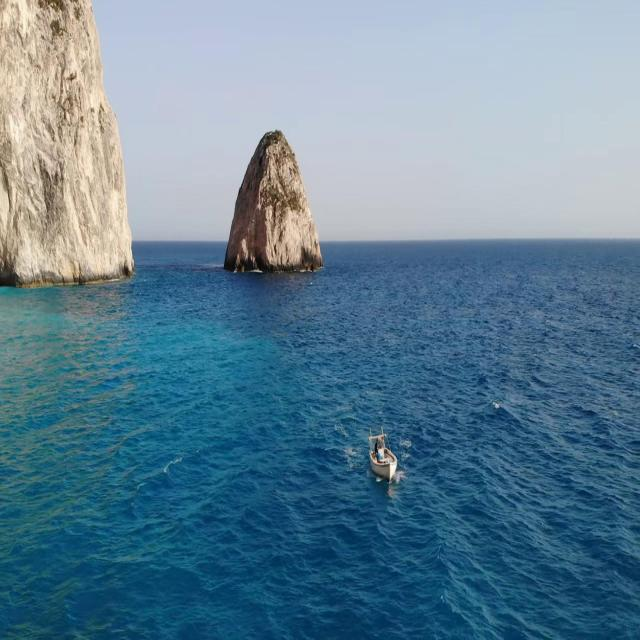boat: (367, 426, 399, 482)
